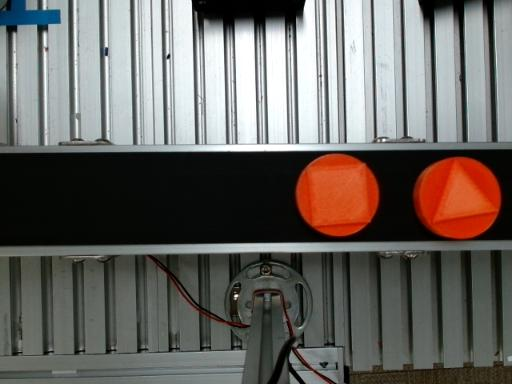Not_Square: (431, 157, 502, 223)
Orange_Waper: (413, 157, 502, 239), (295, 154, 379, 237)
Square: (305, 163, 372, 228)
